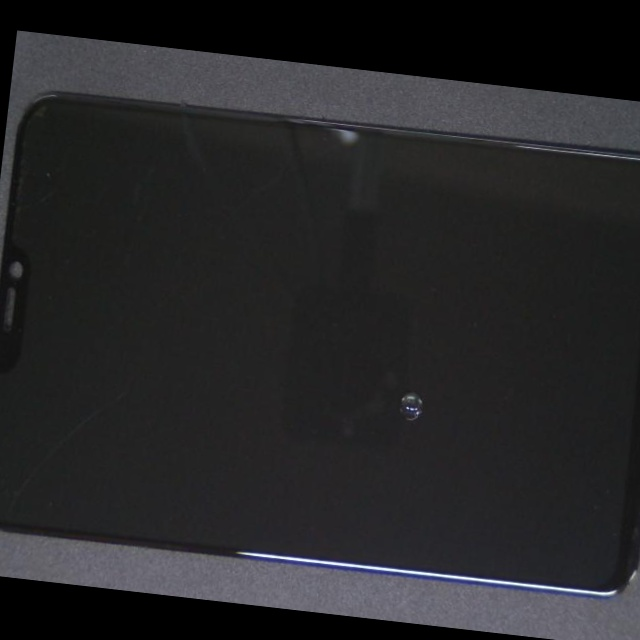oil: (177, 186, 635, 576)
